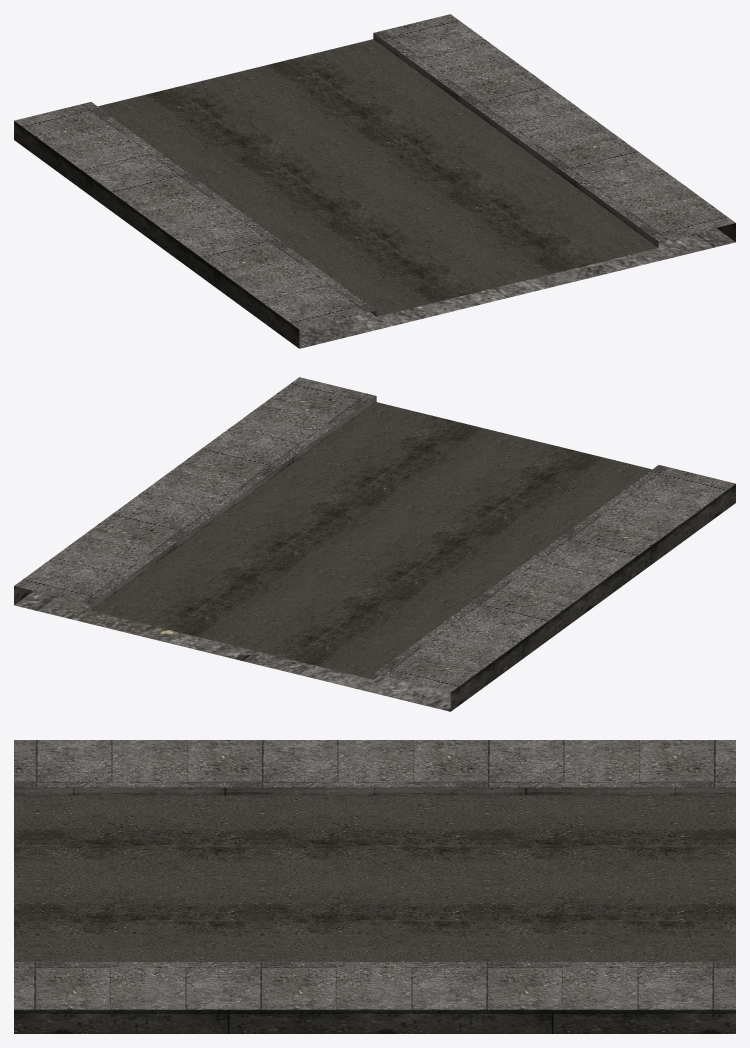
The model's file is HugeRoad.fbx.
3 views of the same model, one above another, from view 1: azimuth 30°, elevation 25°; view 2: azimuth 150°, elevation 25°; view 3: azimuth 270°, elevation 25° (orthographic). The views are drawn at different scales.
Visible parts, largest first — view 1: Road; view 2: Road; view 3: Road.
Boxes of the visible parts, x1,y1,x2,y2 form: Road: [14, 14, 735, 348]; Road: [14, 377, 735, 711]; Road: [14, 740, 735, 1033].
Bounding box in the file's own units: 4.32 × 0.1826 × 4.89.
Materials: 2 (2 with a texture image).
